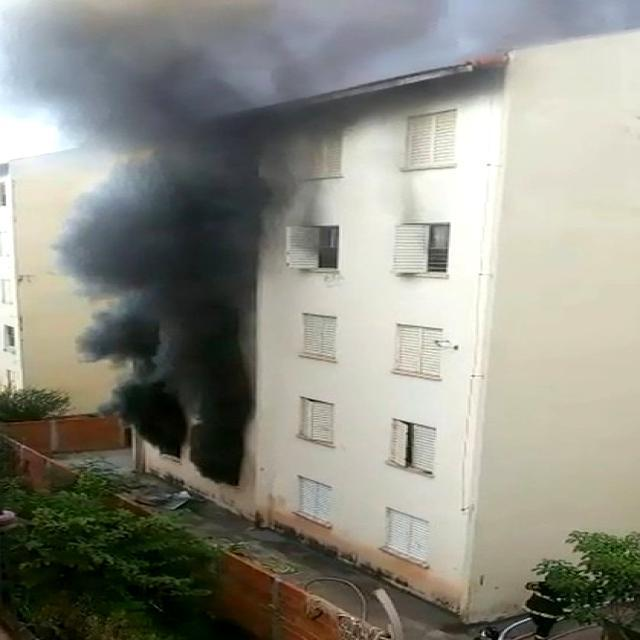Smoke: (0, 0, 301, 465)
